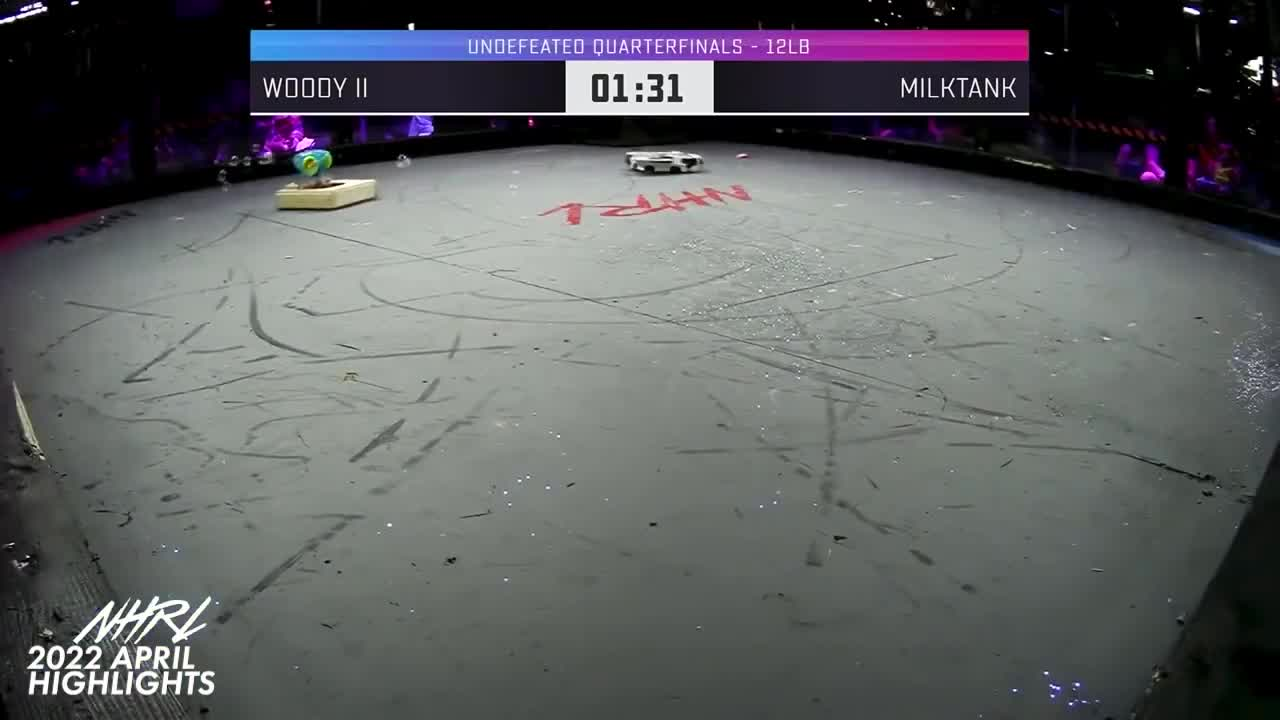combatbot: (274, 141, 381, 209), (622, 150, 704, 175)
